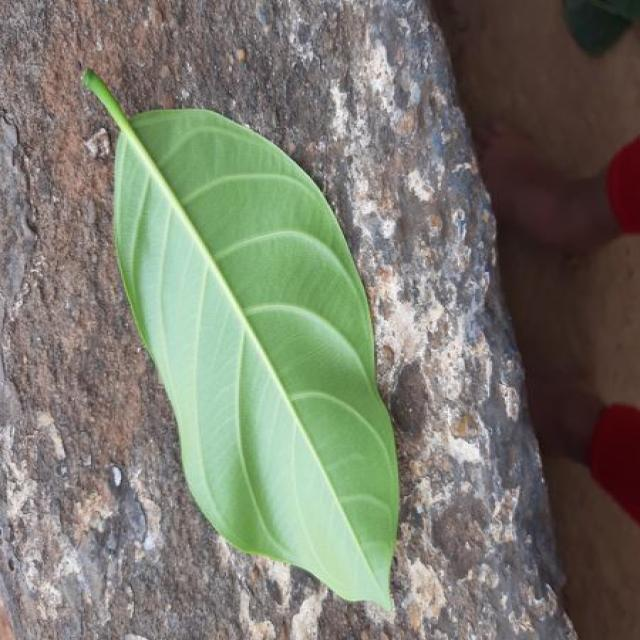Jackfruit: (83, 71, 398, 608)
